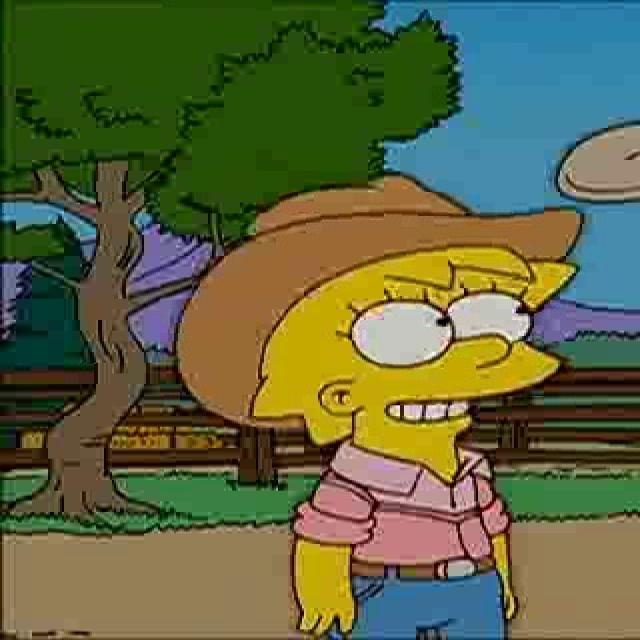Lisa Simpson: (246, 243, 582, 469)
